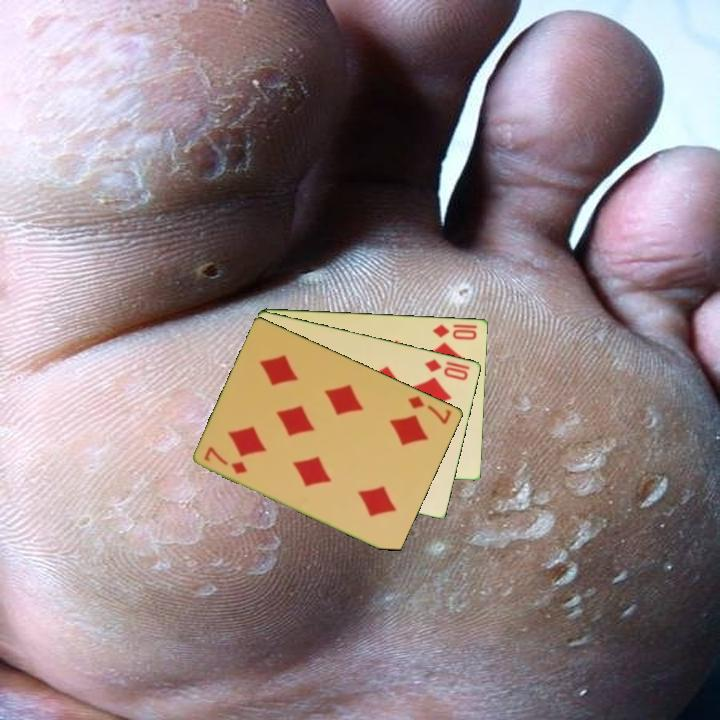10d: (421, 355, 471, 383), (429, 320, 480, 342)
7d: (404, 392, 455, 427), (201, 443, 251, 477)
